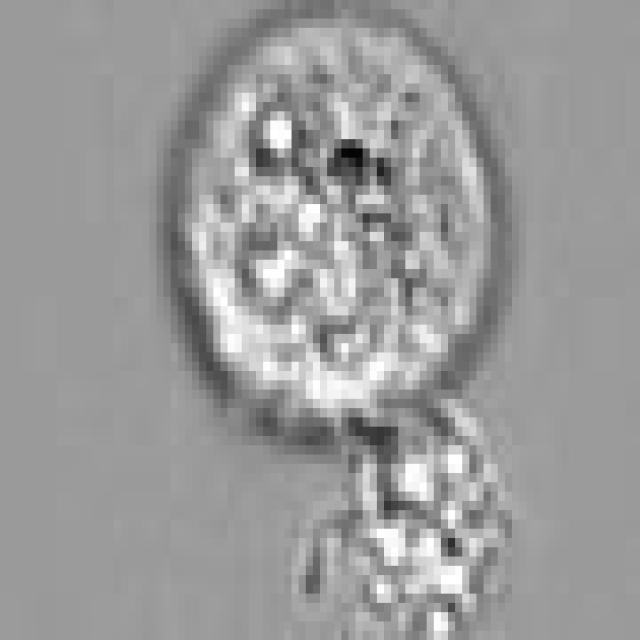Cancer Cell: (178, 10, 498, 418)
WBC: (348, 390, 512, 630)
